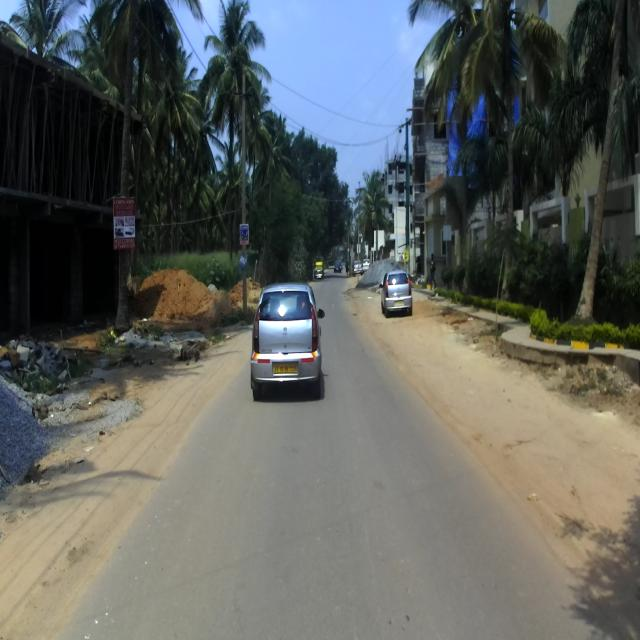car ahead at: (252, 281, 326, 394)
